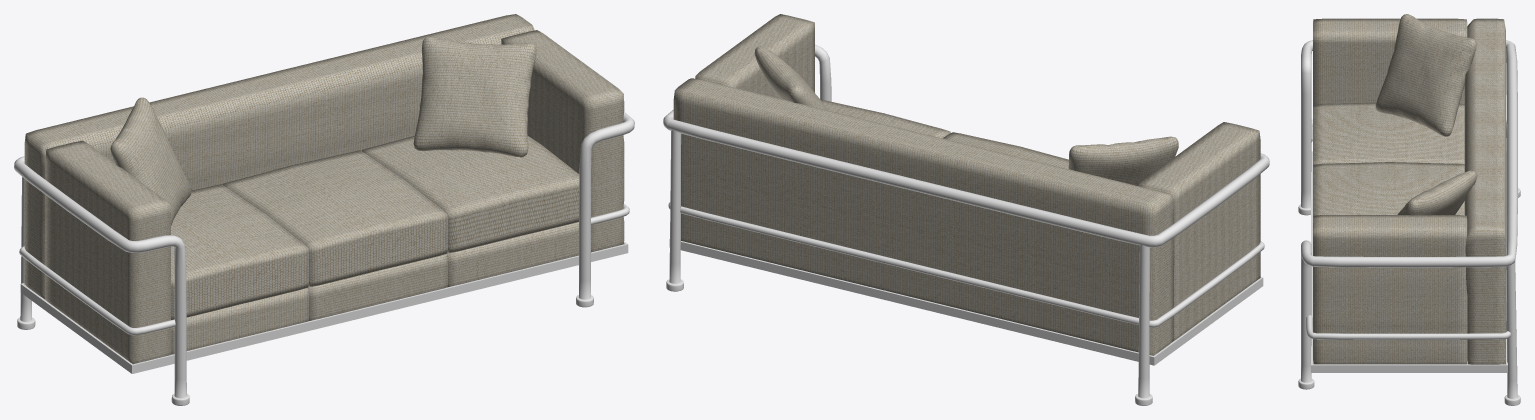
File: couch.glb
3 renders of one model, left to right at view 1: azimuth 30°, elevation 25°; view 2: azimuth 150°, elevation 25°; view 3: azimuth 270°, elevation 25°, orthographic. The views are drawn at different scales.
Parts seen in each view (by area): view 1: couch; view 2: couch; view 3: couch.
Part boxes in pixels (x1,y1,x2,y2): couch: (14,14,634,405); couch: (663,14,1269,405); couch: (1298,14,1520,405).
Bounding box in the file's own units: 2.07 × 0.8555 × 0.8765.
Materials: 3 (2 with a texture image).
